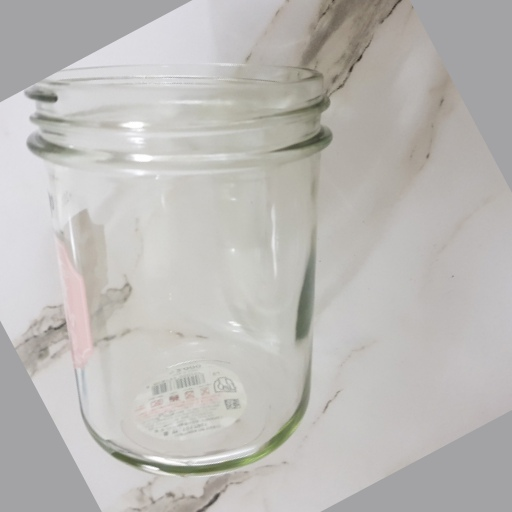Glass_5: (24, 55, 334, 474)
